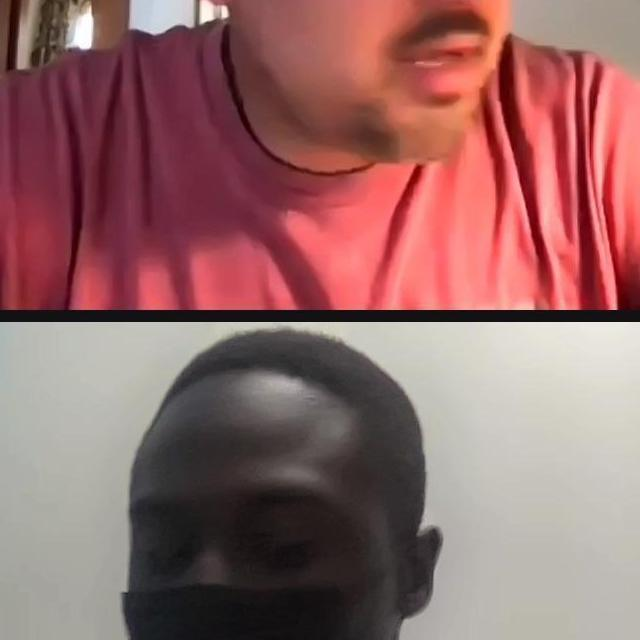NO-Hardhat: (124, 326, 427, 461)
NO-Mask: (257, 9, 506, 171), (109, 576, 407, 640)
NO-Safety Vest: (0, 36, 640, 303)
Person: (0, 324, 640, 640), (0, 0, 640, 308)
